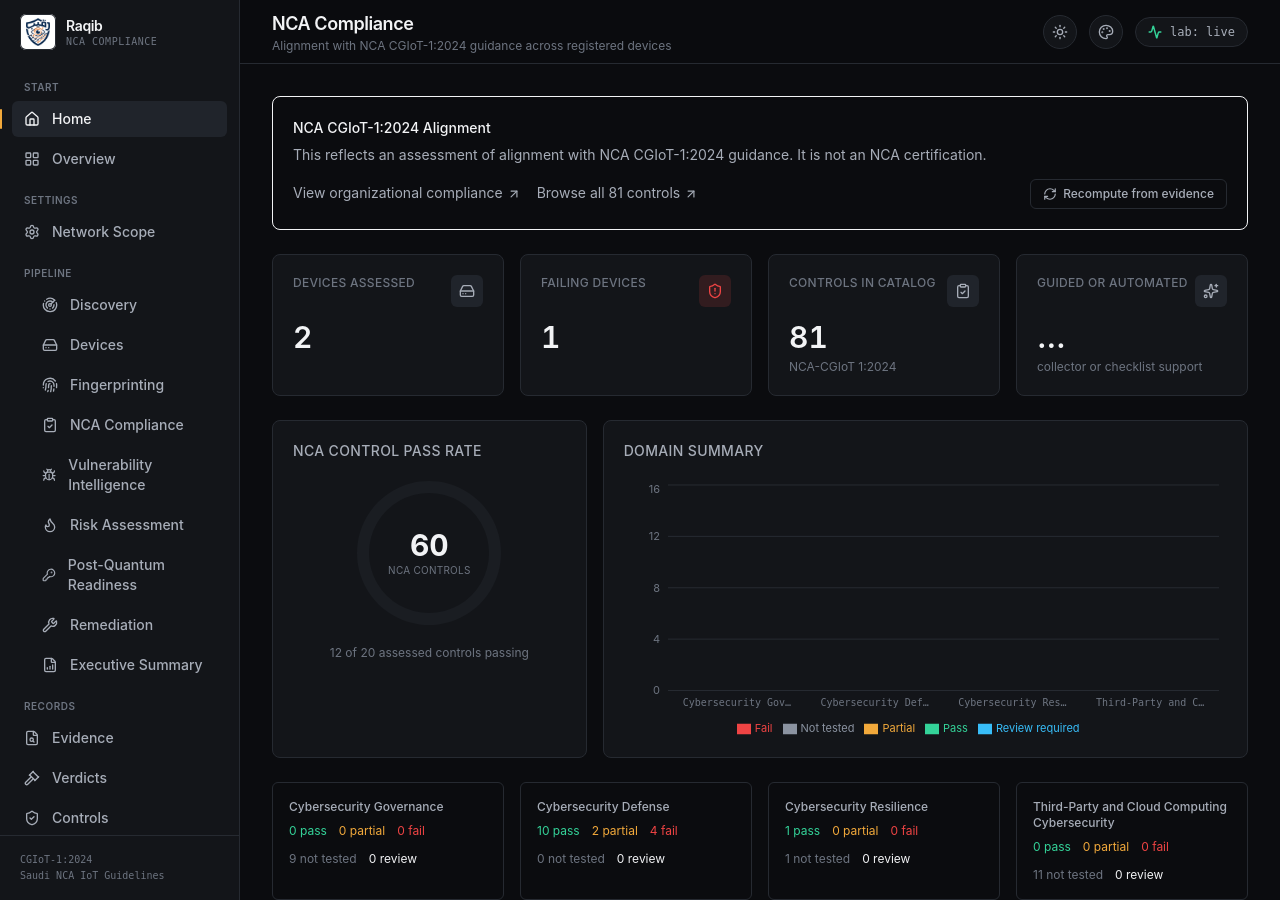
Scenario: NCACompliancePage › recomputes NCA mappings from evidence and shows the result
Expected: the text "NCA CGIoT-1:2024 Alignment" is shown, [293, 119, 491, 136]
Click the button "Recompute from evidence". click: {"x": 1129, "y": 194}
box: [1030, 178, 1227, 208]
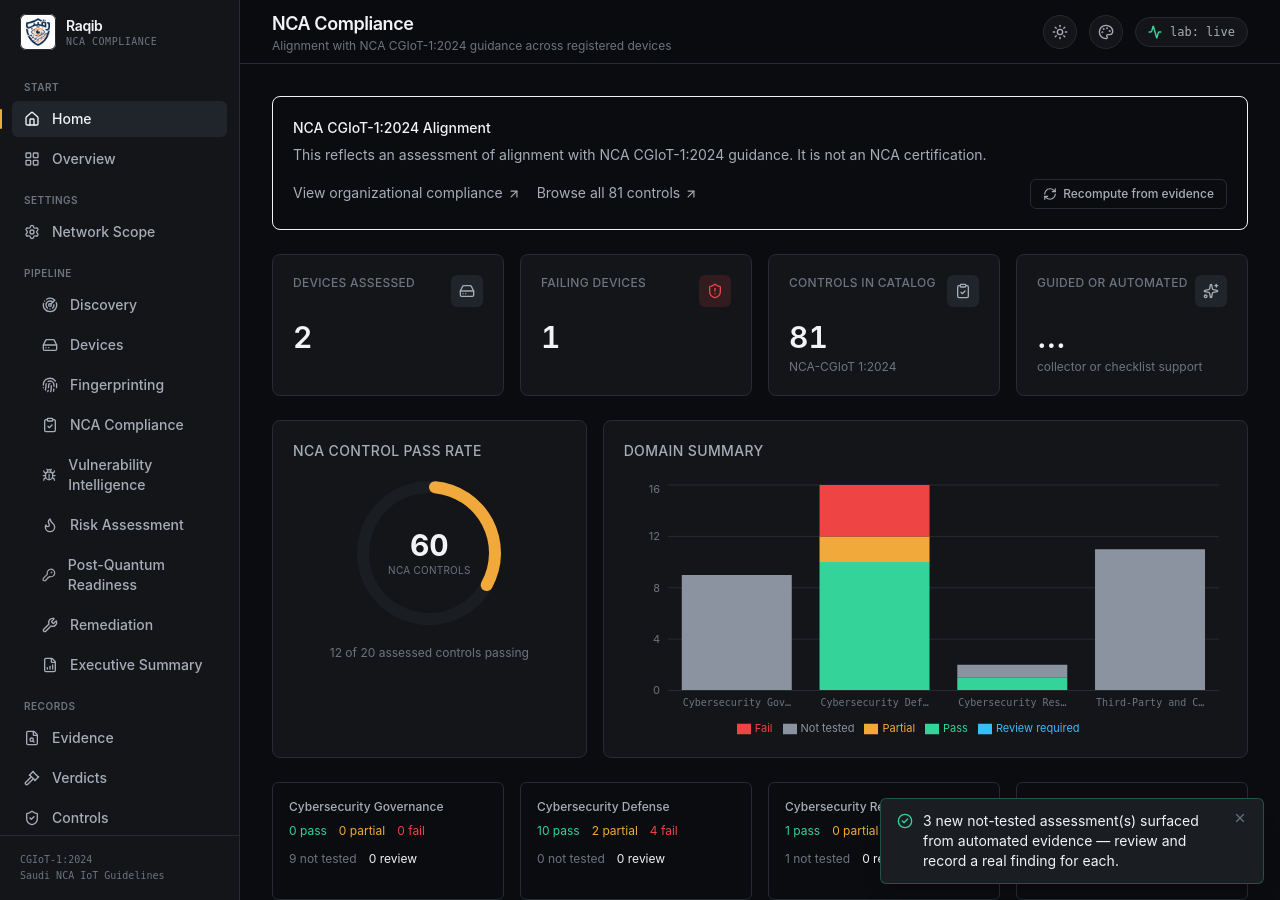
Result: the text "3 new not-tested assessment" is shown at [923, 812, 1199, 869]
